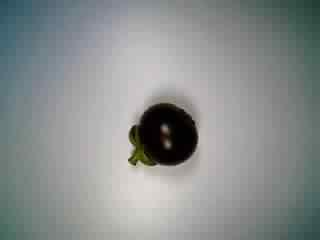mangosteen: (118, 98, 203, 174)
